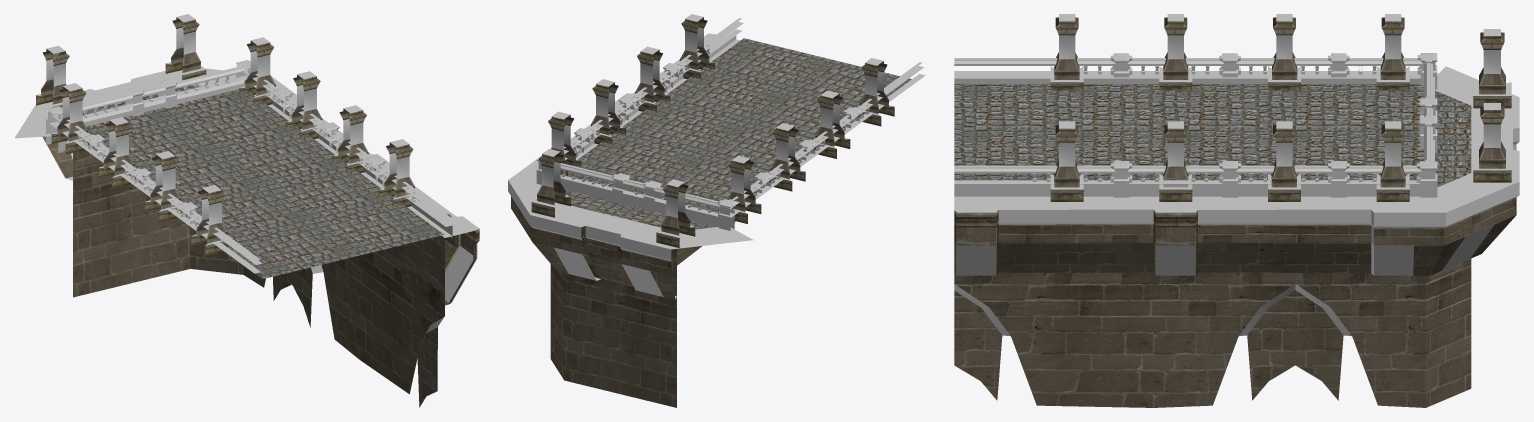
The model's file is SM_Balcony_Arena01.FBX.
The picture shows the model from 3 angles, left to right: view 1: azimuth 30°, elevation 25°; view 2: azimuth 150°, elevation 25°; view 3: azimuth 270°, elevation 25°; orthographic projection. The views are drawn at different scales.
Parts seen in each view (by area): view 1: SM_Balcony_Arena01; view 2: SM_Balcony_Arena01; view 3: SM_Balcony_Arena01.
Part boxes in pixels (x1=…): SM_Balcony_Arena01: x1=15, y1=14, x2=479, y2=407; SM_Balcony_Arena01: x1=508, y1=14, x2=925, y2=407; SM_Balcony_Arena01: x1=954, y1=14, x2=1519, y2=407.
Size of what is drawn, in the model's own units: 1155 by 1884 by 1046.
